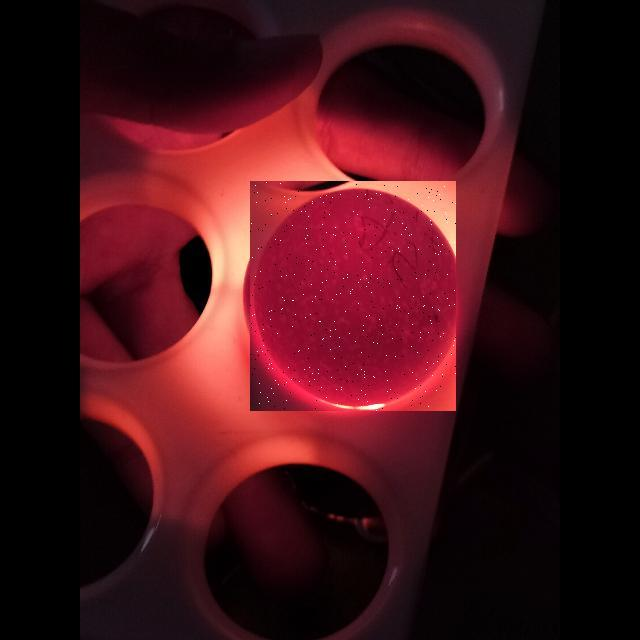Infertile: (250, 181, 456, 411)
